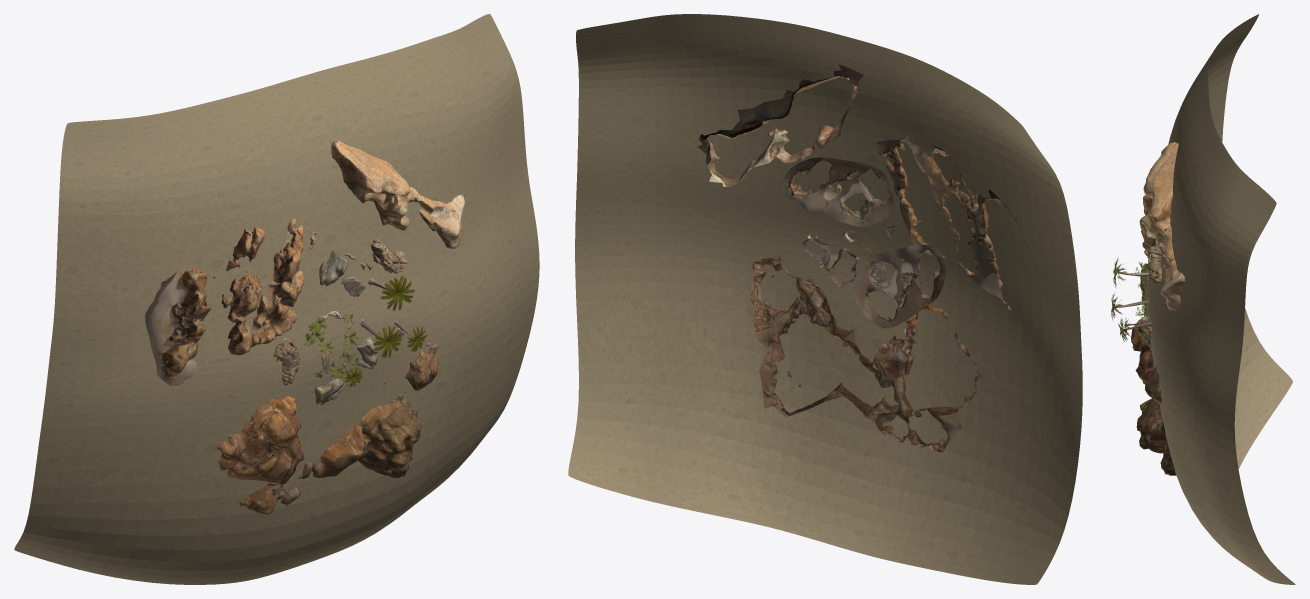
The model's file is island.glb.
3 renders of one model, left to right at view 1: azimuth 30°, elevation 25°; view 2: azimuth 150°, elevation 25°; view 3: azimuth 270°, elevation 25°, orthographic. The views are drawn at different scales.
Visible parts, largest first — view 1: Plane, Object_72, Object_64, Object_68; view 2: Plane, Object_72, Object_64; view 3: Plane, Object_72, Object_64, Object_68.
Part boxes in pixels (x1,y1,x2,y2): Plane: [14, 14, 539, 584]; Object_72: [145, 140, 465, 404]; Object_64: [217, 342, 438, 515]; Object_68: [343, 275, 426, 386]; Plane: [568, 14, 1082, 584]; Object_72: [698, 64, 1028, 328]; Object_64: [750, 255, 980, 452]; Plane: [1146, 14, 1295, 584]; Object_72: [1139, 142, 1185, 350]; Object_64: [1131, 319, 1176, 475]; Object_68: [1111, 258, 1151, 341].
Bounding box in the file's own units: 84.88 × 81.01 × 30.66.
9 materials, 9 textured.
